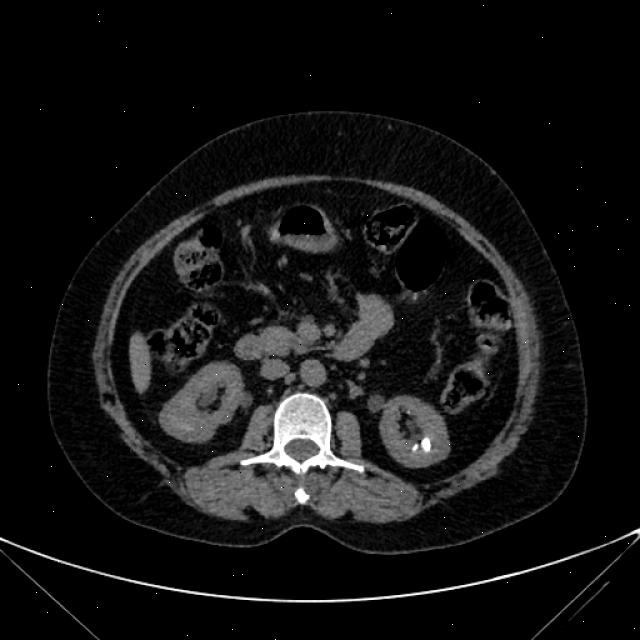kidneystone: (421, 439, 431, 452), (411, 442, 417, 452)
